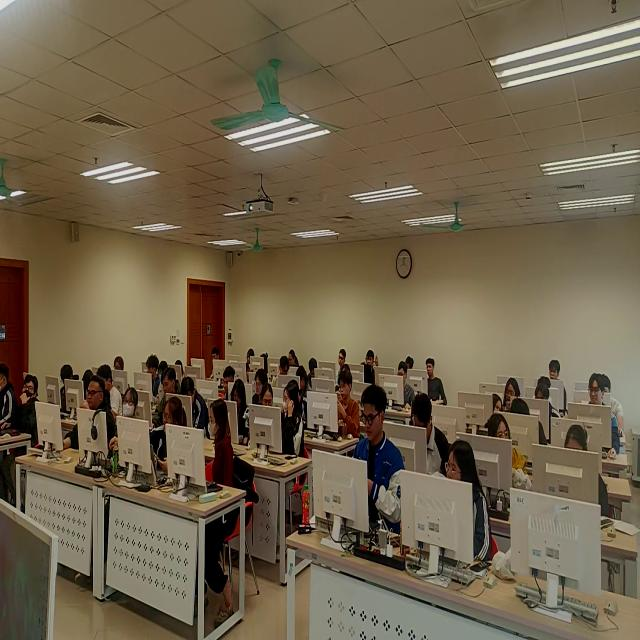raise_head: (433, 442, 492, 567), (14, 372, 43, 457), (111, 391, 141, 457), (363, 351, 379, 377), (549, 360, 563, 387), (336, 348, 347, 370)
using_computer: (344, 388, 407, 547), (45, 378, 114, 462), (553, 427, 610, 525), (141, 400, 189, 478), (581, 372, 620, 461), (512, 400, 549, 454), (387, 363, 417, 415), (418, 361, 450, 405), (53, 364, 80, 416), (534, 386, 560, 432), (227, 383, 248, 438), (137, 356, 161, 403), (201, 347, 225, 385), (247, 373, 267, 406), (111, 356, 128, 385), (307, 359, 320, 384), (287, 351, 300, 376)
using_phone: (329, 370, 361, 444), (503, 380, 523, 414)
